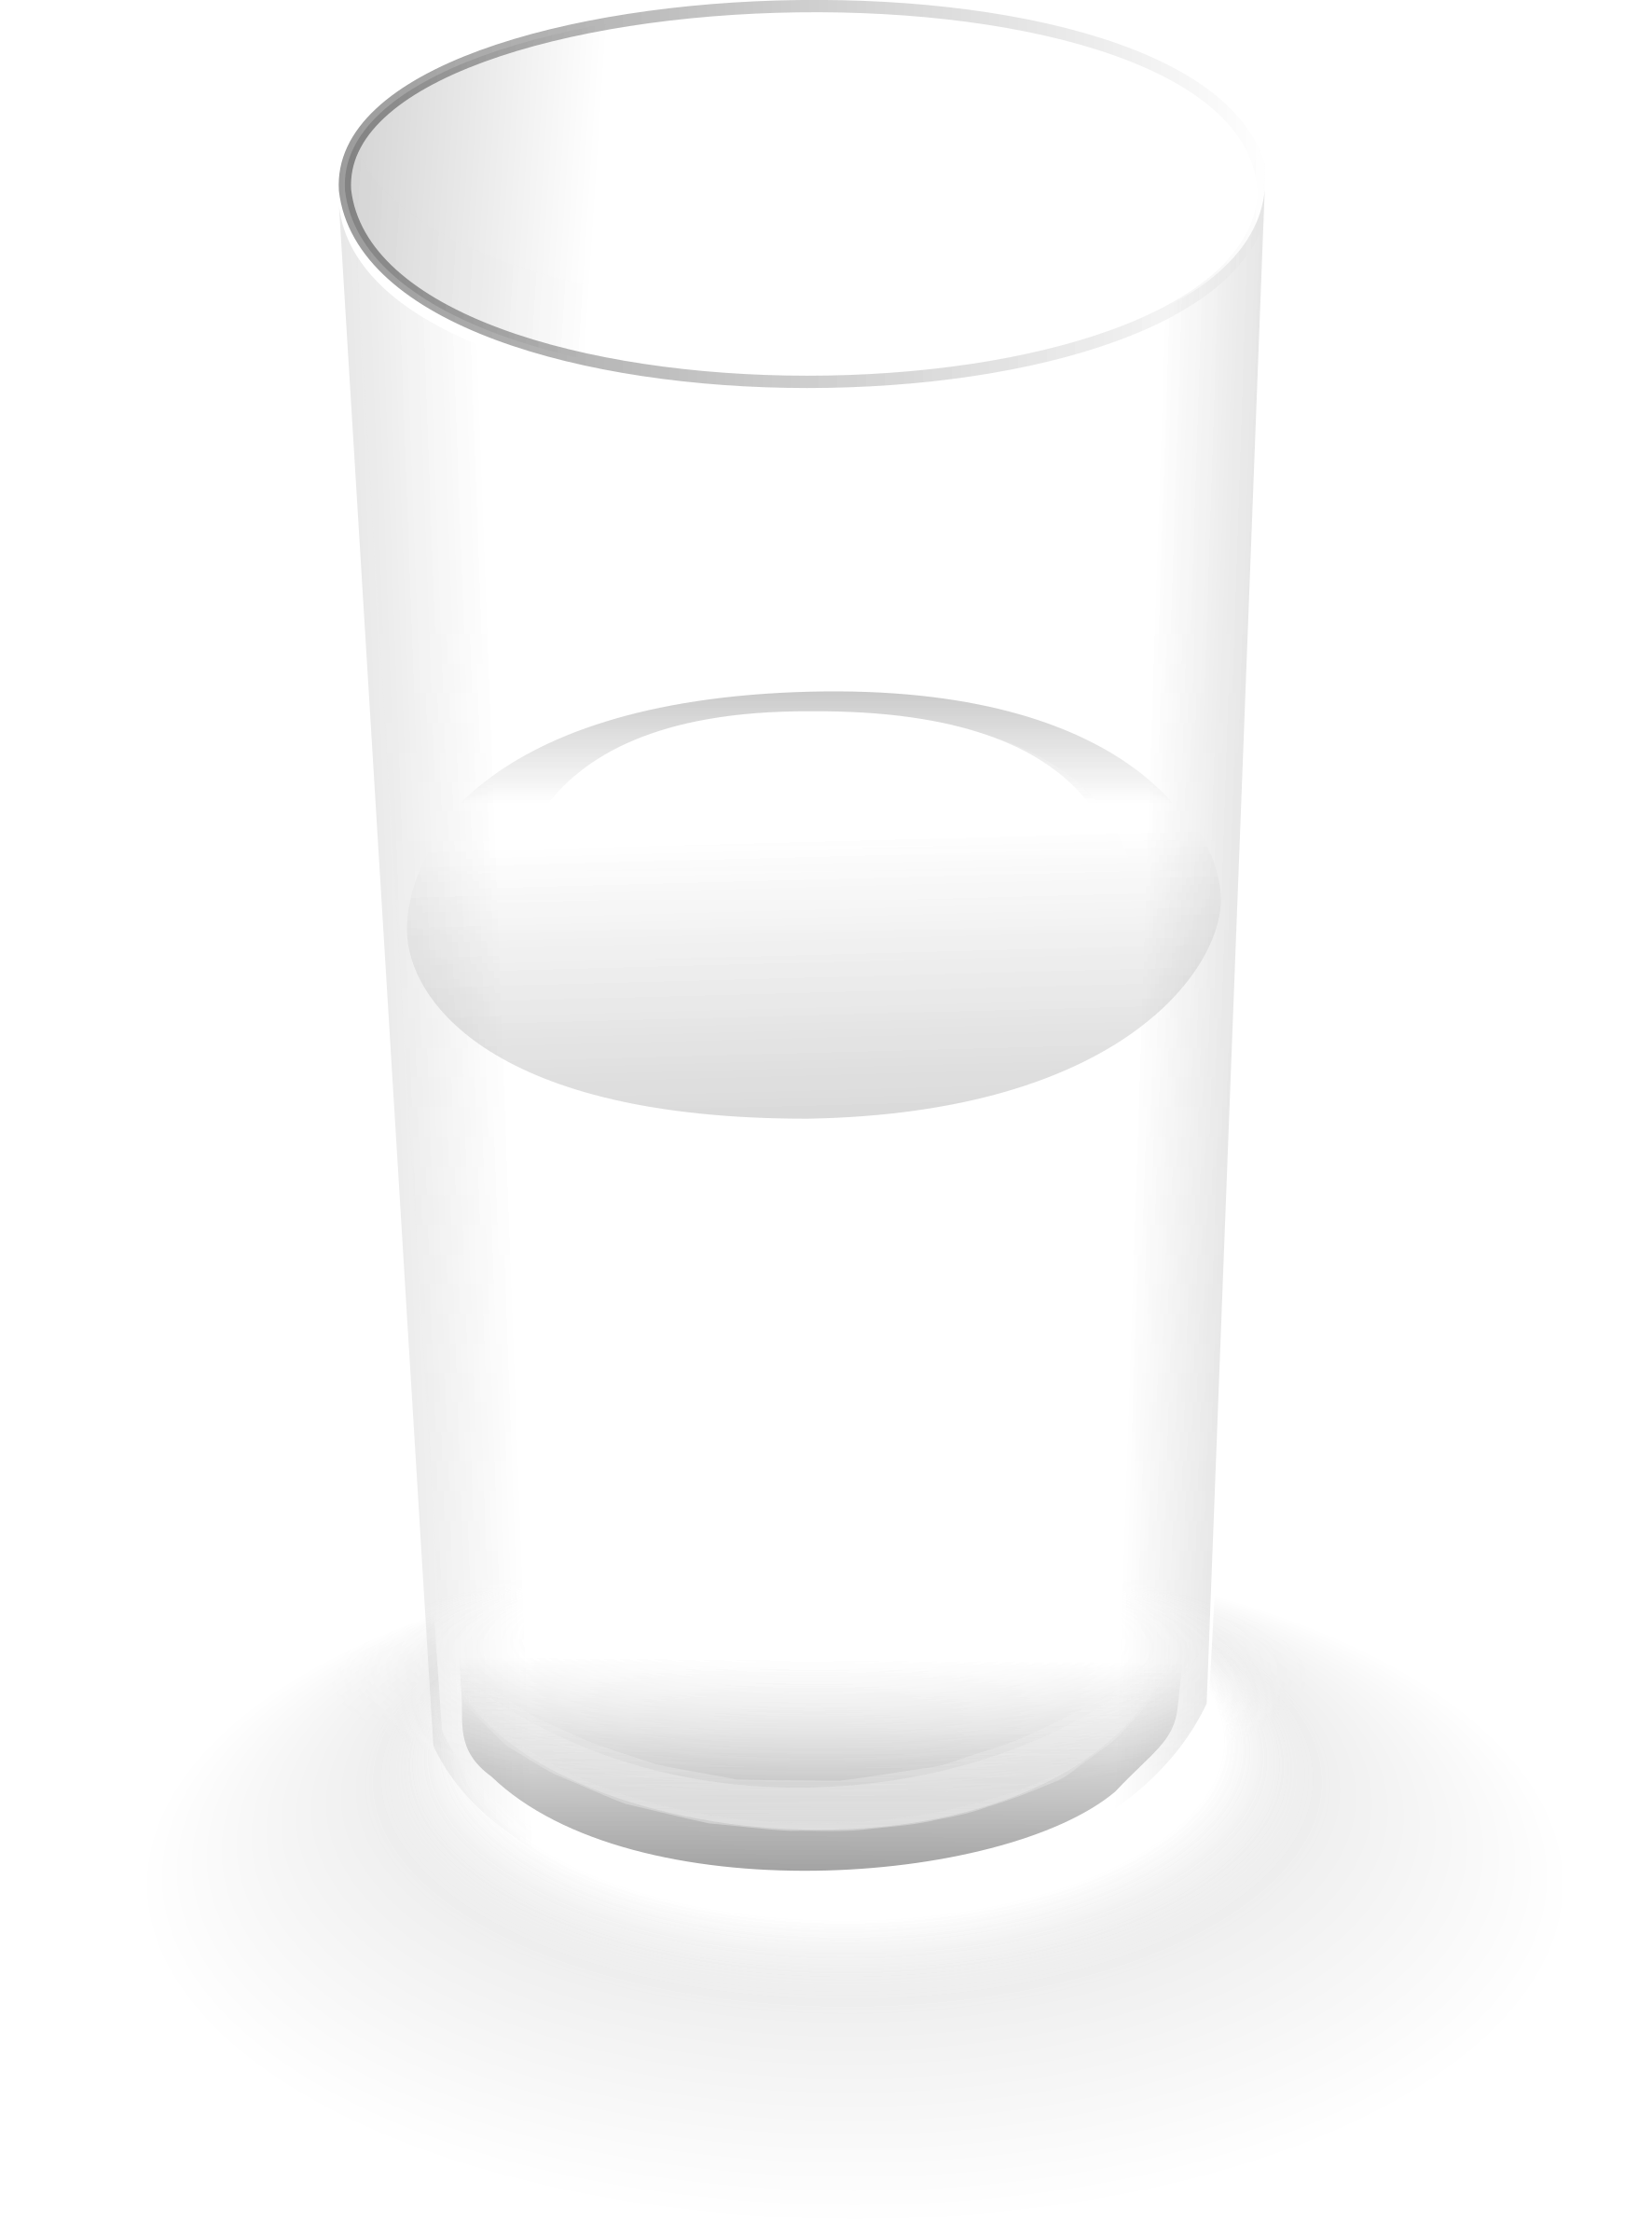glass of water: (377, 233, 1237, 1852)
